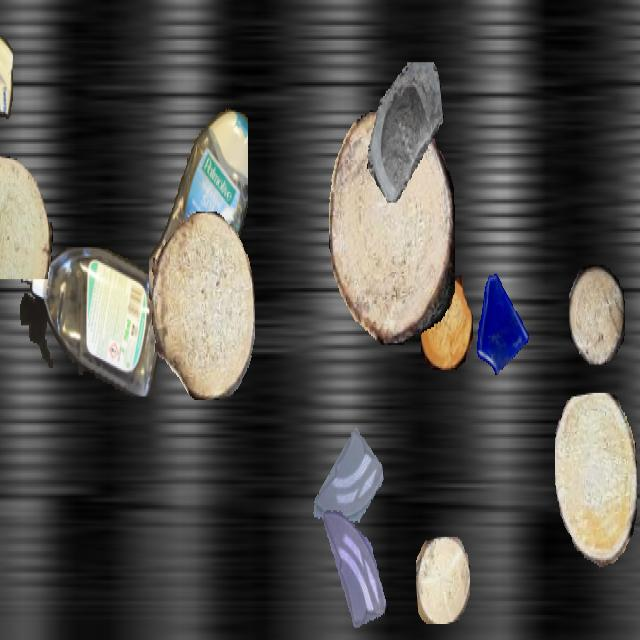glass: (365, 62, 443, 201), (316, 507, 390, 638), (311, 423, 383, 551), (471, 269, 531, 375)
plastic: (149, 102, 247, 340), (20, 247, 166, 397), (0, 2, 12, 180)
wood: (329, 109, 455, 343), (152, 212, 254, 400), (555, 393, 637, 567), (0, 156, 52, 278), (569, 265, 625, 364), (420, 276, 472, 368), (416, 537, 470, 622)
